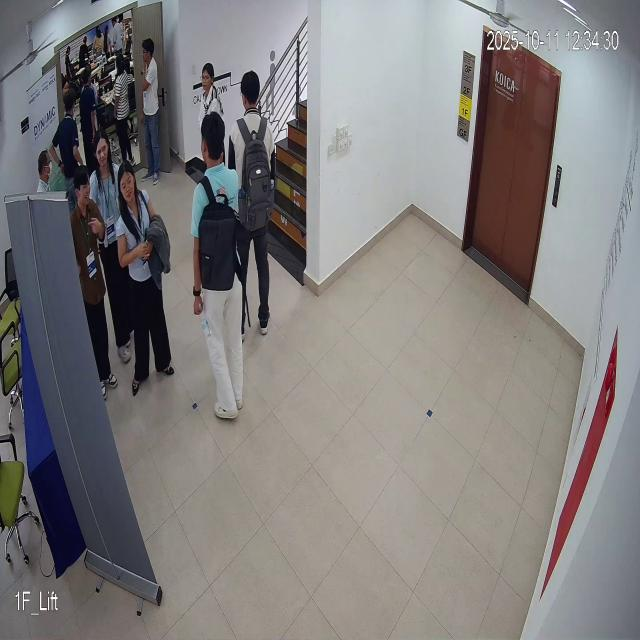face: (116, 158, 136, 208), (73, 163, 93, 209), (94, 130, 110, 170)
